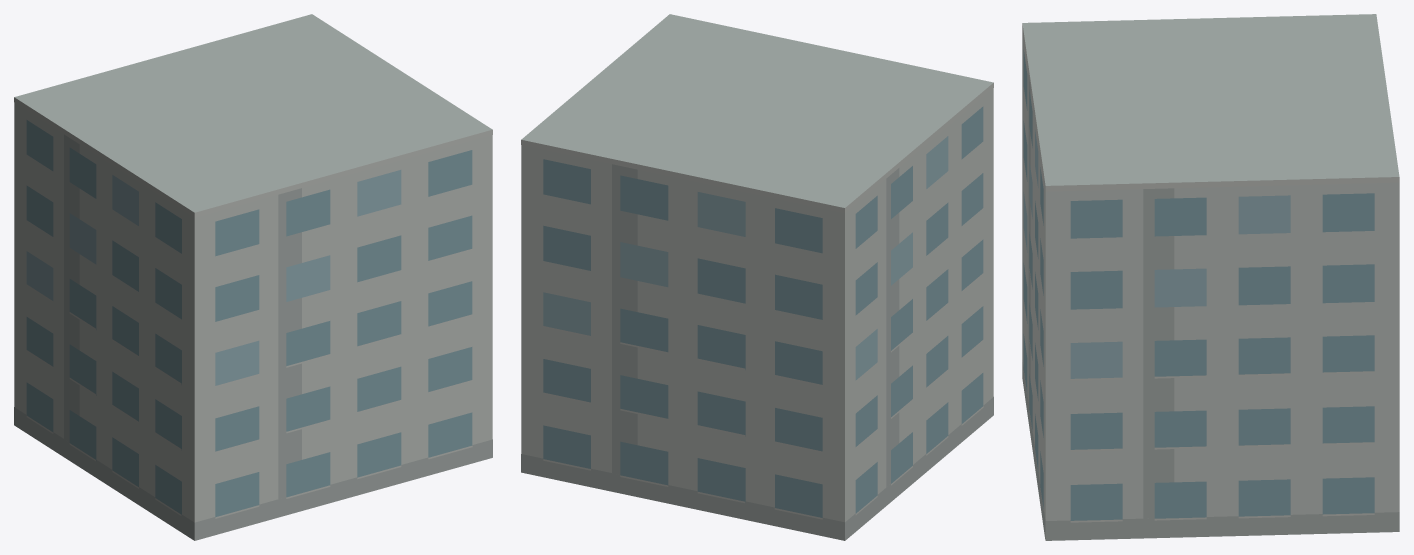
Rendered from residential-63ef1947-211b-414d-9a10-eb0f97694c21.glb.
3 renders of one model, left to right at view 1: azimuth 30°, elevation 25°; view 2: azimuth 150°, elevation 25°; view 3: azimuth 270°, elevation 25°, orthographic. The views are drawn at different scales.
Parts seen in each view (by area): view 1: residential-63ef1947-211b-414d-9a10-eb0f97694c21.tmp; view 2: residential-63ef1947-211b-414d-9a10-eb0f97694c21.tmp; view 3: residential-63ef1947-211b-414d-9a10-eb0f97694c21.tmp.
Part boxes in pixels (<box>): residential-63ef1947-211b-414d-9a10-eb0f97694c21.tmp: <box>14,14,492,540</box>; residential-63ef1947-211b-414d-9a10-eb0f97694c21.tmp: <box>521,14,993,540</box>; residential-63ef1947-211b-414d-9a10-eb0f97694c21.tmp: <box>1022,14,1399,540</box>.
Bounding box in the file's own units: 15.85 × 15.25 × 14.7.
